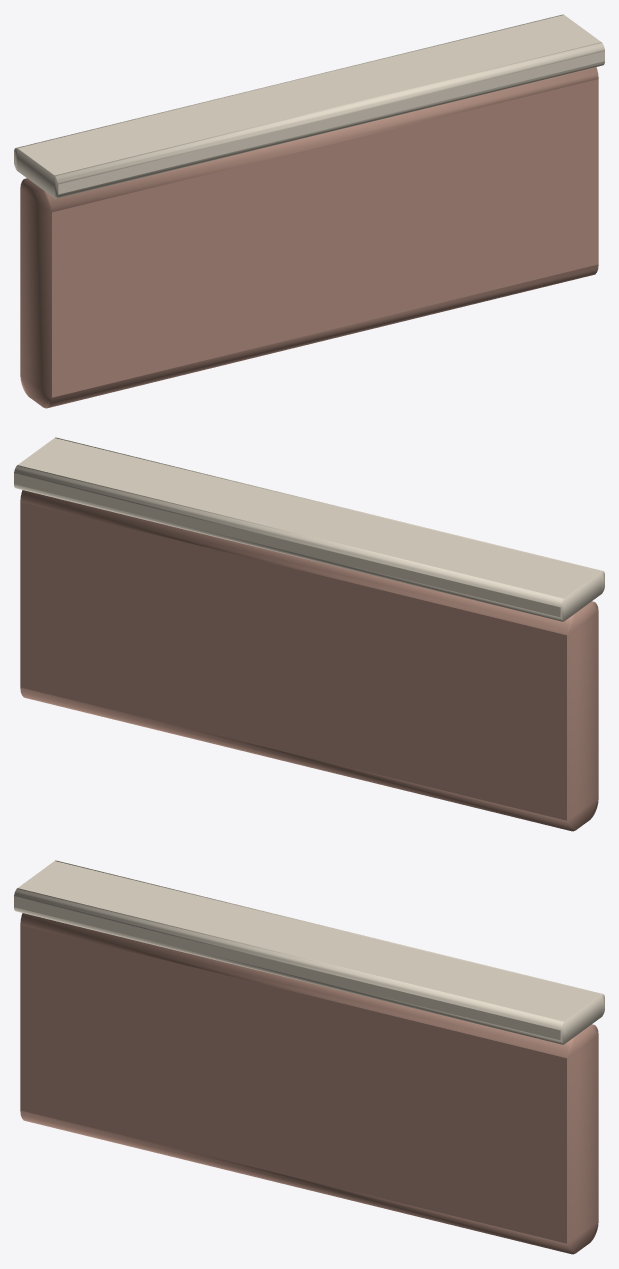
File: Parapet.glb
3 views of the same model, one above another, from view 1: azimuth 30°, elevation 25°; view 2: azimuth 150°, elevation 25°; view 3: azimuth 330°, elevation 25° (orthographic).
Visible parts, largest first — view 1: PBK_parapet.003, PBK_coping.003; view 2: PBK_parapet.003, PBK_coping.003; view 3: PBK_parapet.003, PBK_coping.003.
Part boxes in pixels (<box>): PBK_parapet.003: <box>20,67,598,408</box>; PBK_coping.003: <box>14,14,604,198</box>; PBK_parapet.003: <box>20,490,598,831</box>; PBK_coping.003: <box>14,437,604,621</box>; PBK_parapet.003: <box>20,913,598,1254</box>; PBK_coping.003: <box>14,860,604,1044</box>.
Bounding box in the file's own units: 2 × 0.84 × 0.28.
